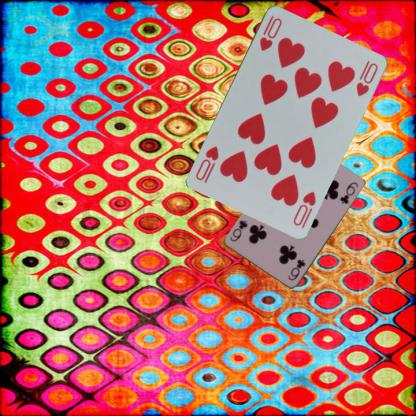10h: (256, 12, 284, 53), (290, 188, 317, 227)
6c: (285, 257, 307, 282)
